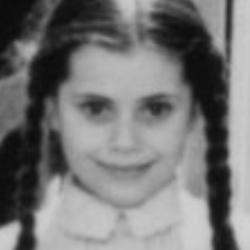face: (10, 4, 241, 240)
